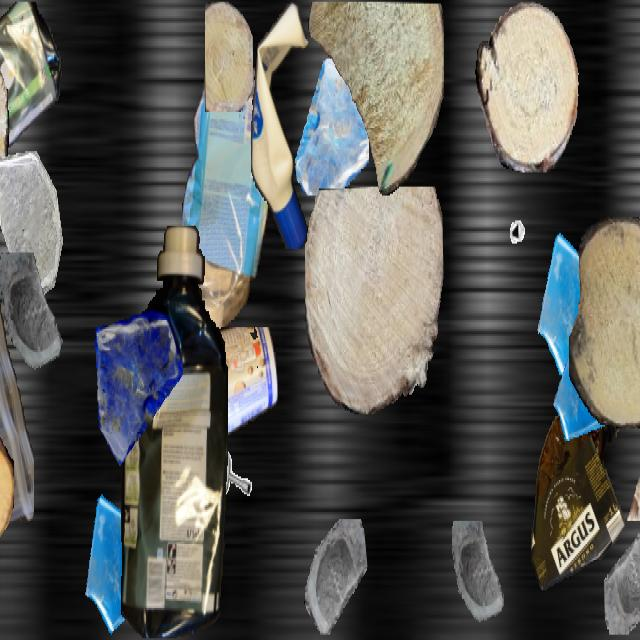glass: (89, 306, 183, 473), (535, 220, 627, 384), (81, 478, 171, 638), (292, 58, 368, 194), (0, 253, 73, 391), (0, 151, 66, 301), (447, 521, 513, 638), (303, 519, 367, 633), (553, 338, 617, 452), (604, 523, 640, 633)
metal: (210, 448, 258, 533), (507, 190, 545, 258)
plastic: (120, 226, 228, 638), (182, 62, 268, 372), (531, 398, 625, 590), (251, 2, 315, 247), (178, 327, 278, 452), (0, 2, 63, 183), (0, 279, 34, 532)
wood: (305, 187, 443, 414), (308, 2, 444, 194), (475, 2, 579, 172), (569, 217, 640, 427), (205, 2, 253, 112), (0, 7, 8, 270), (0, 430, 13, 548), (625, 455, 640, 519)
